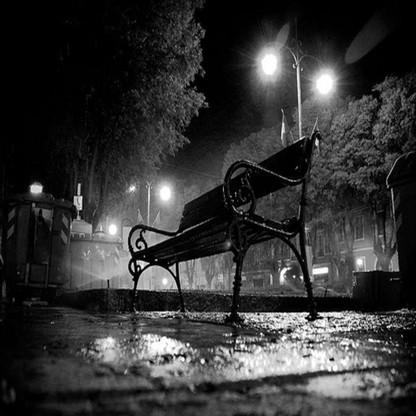obstacle: (124, 128, 331, 337)
